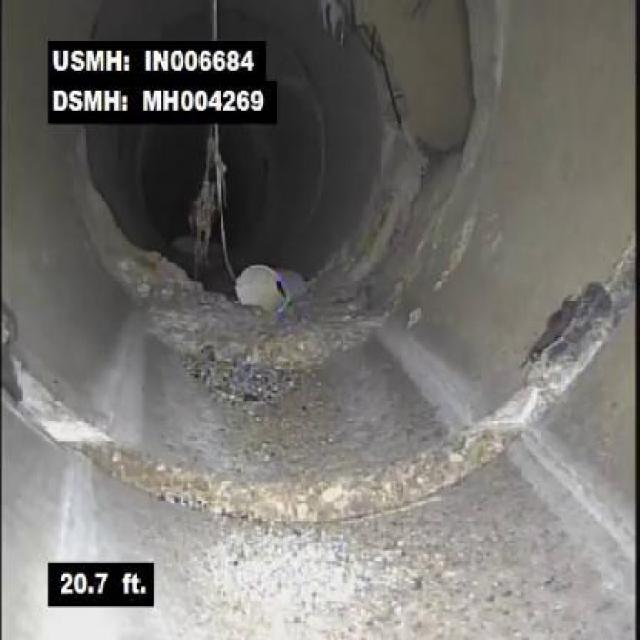Joint offset: (438, 299, 608, 486), (122, 446, 436, 531), (312, 133, 425, 304), (61, 134, 172, 294), (1, 357, 110, 478)
